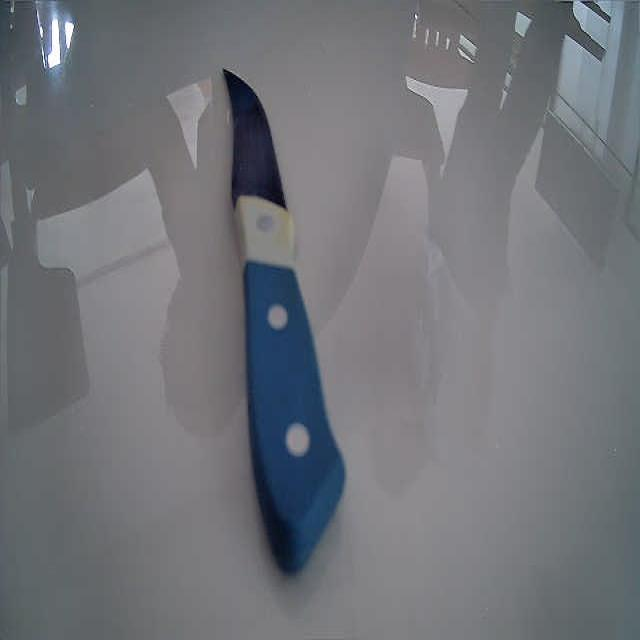knife: (220, 68, 347, 575)
